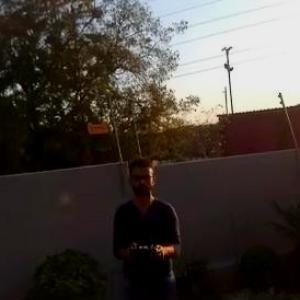follow: (109, 148, 188, 299)
